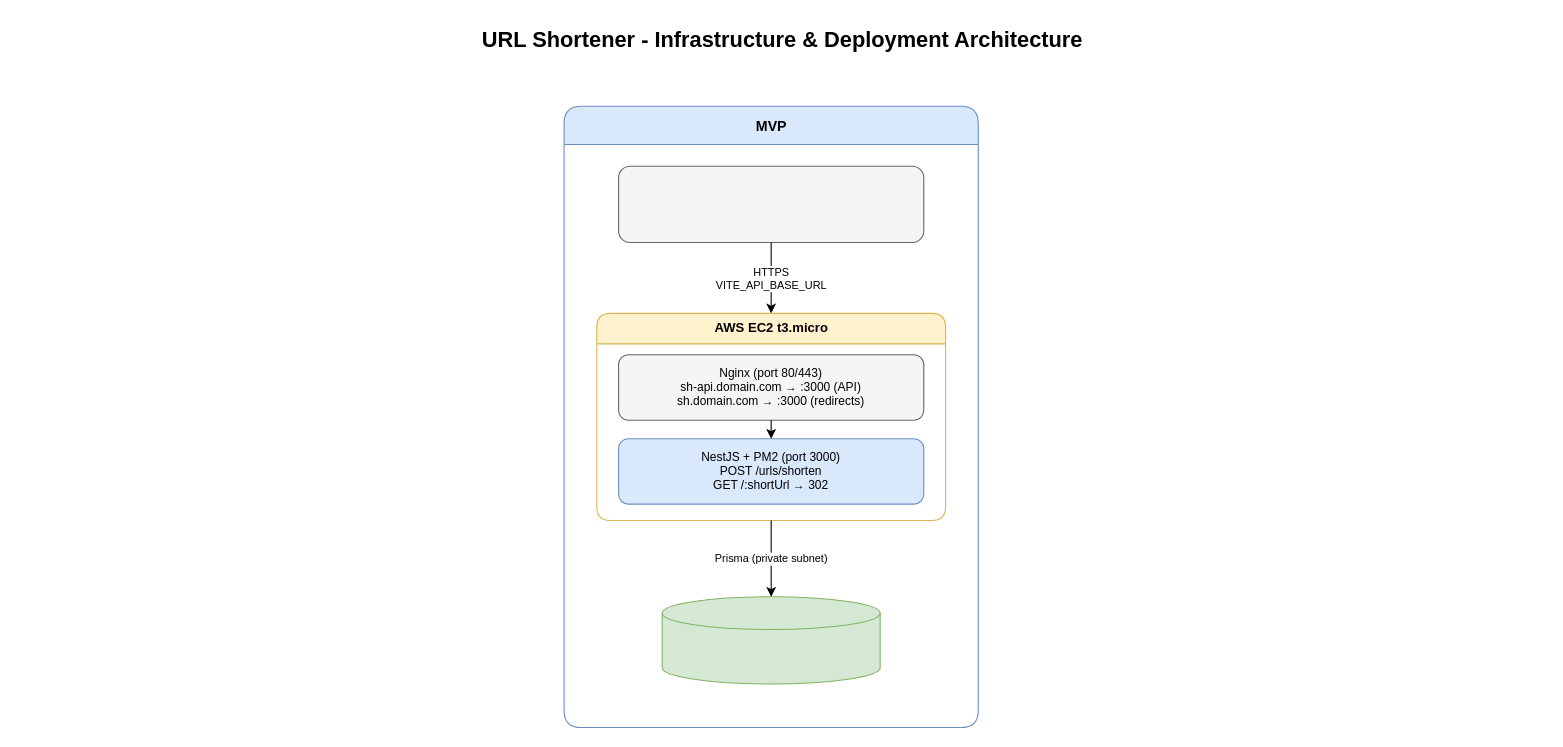
Image size: 1563x747. Some labels were removed from this diagram. The shapes that lost their labels are listed below. From the top down, each one's centre as x and y in pixels, then its label:
the point at 770,204: Cloudflare Pages React + Vite + Tailwind Global CDN · Free HTTPS
the point at 770,640: AWS RDS PostgreSQL db.t3.micro · Single-AZ SG: allow 5432 from EC2 only
